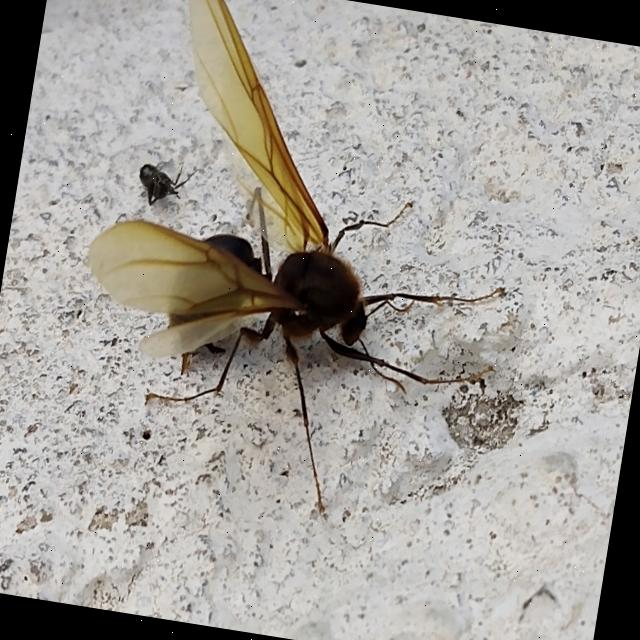Alive-Male-Alate: (52, 0, 550, 541)
